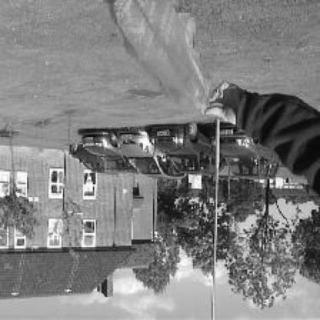other: (100, 5, 218, 119)
